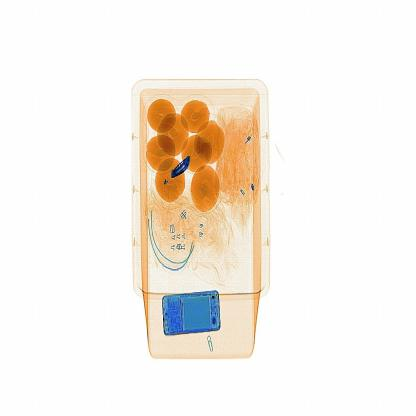knife: (169, 134, 198, 193)
